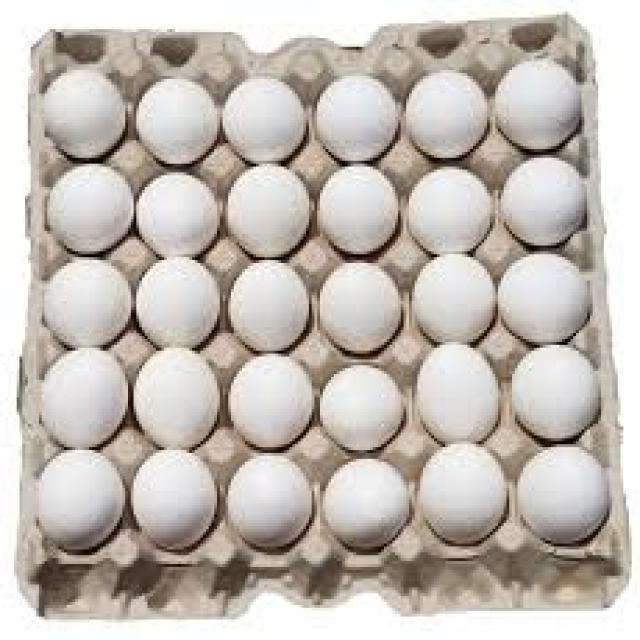White Egg: (209, 344, 325, 454), (509, 432, 615, 548), (322, 456, 442, 552), (298, 254, 418, 349), (417, 434, 516, 544), (46, 447, 135, 562), (46, 354, 136, 464), (504, 346, 607, 441), (499, 151, 596, 250), (221, 446, 314, 548), (308, 161, 400, 264), (412, 342, 505, 441), (500, 246, 591, 346), (407, 250, 499, 348), (46, 156, 134, 258), (134, 167, 229, 261), (489, 59, 584, 151), (140, 344, 224, 448), (134, 448, 217, 553), (224, 76, 316, 166), (404, 167, 490, 261), (225, 167, 315, 256), (323, 349, 402, 449), (401, 77, 492, 163), (49, 254, 131, 348), (311, 76, 399, 162), (230, 257, 312, 346), (44, 70, 126, 158), (141, 259, 220, 349), (138, 88, 218, 170)
